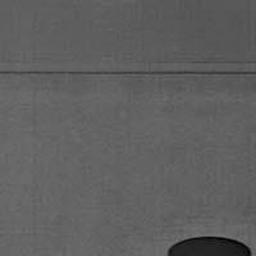Punching: (168, 237, 252, 256)
